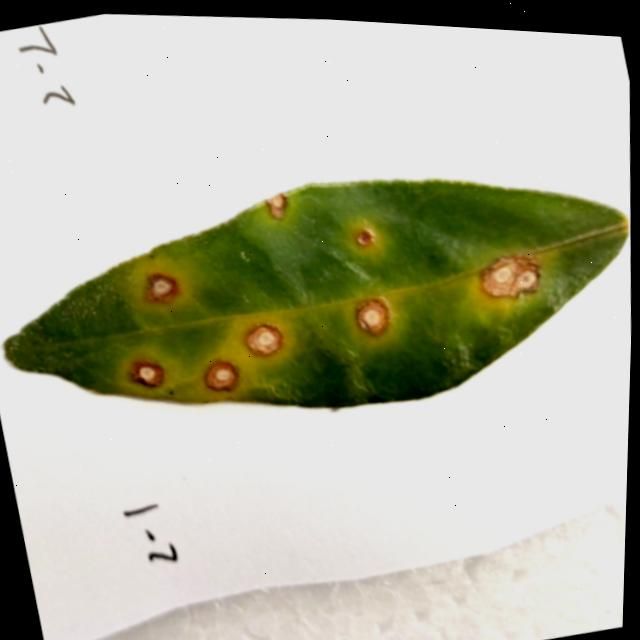antracnose: (4, 178, 627, 407), (482, 255, 539, 296), (245, 324, 283, 355), (357, 299, 389, 334), (205, 361, 237, 390), (146, 273, 178, 301), (130, 361, 164, 386), (265, 193, 286, 218), (355, 227, 374, 246)
